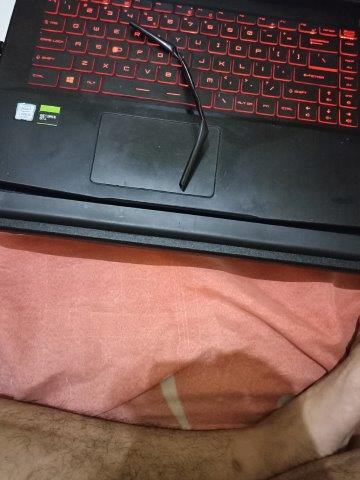sedotan: (129, 21, 208, 188)
